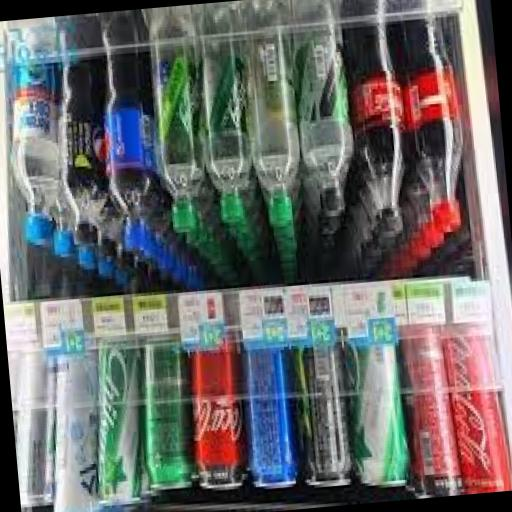Coca: (438, 307, 512, 495)
